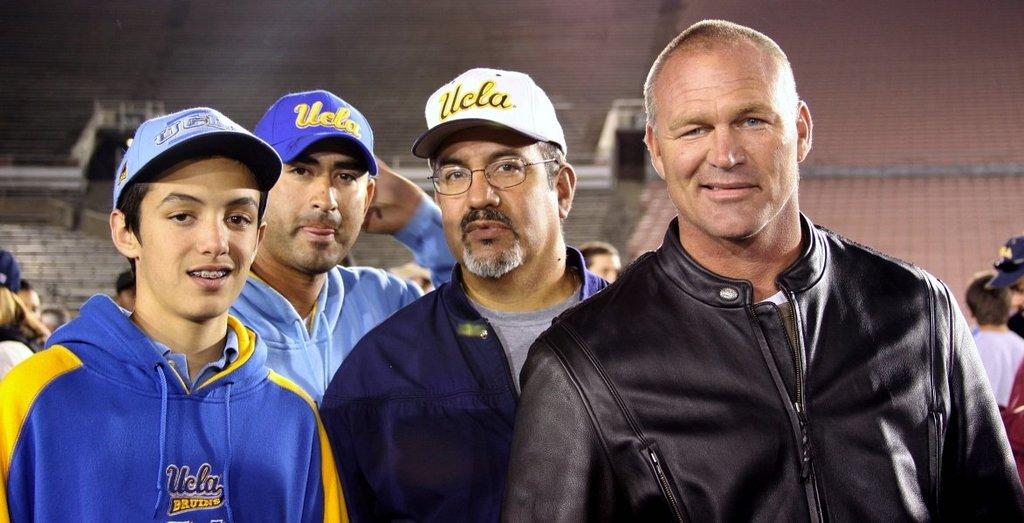Hat: (110, 106, 282, 223), (413, 66, 567, 158), (252, 86, 379, 176), (986, 237, 1022, 290), (0, 244, 21, 291)
